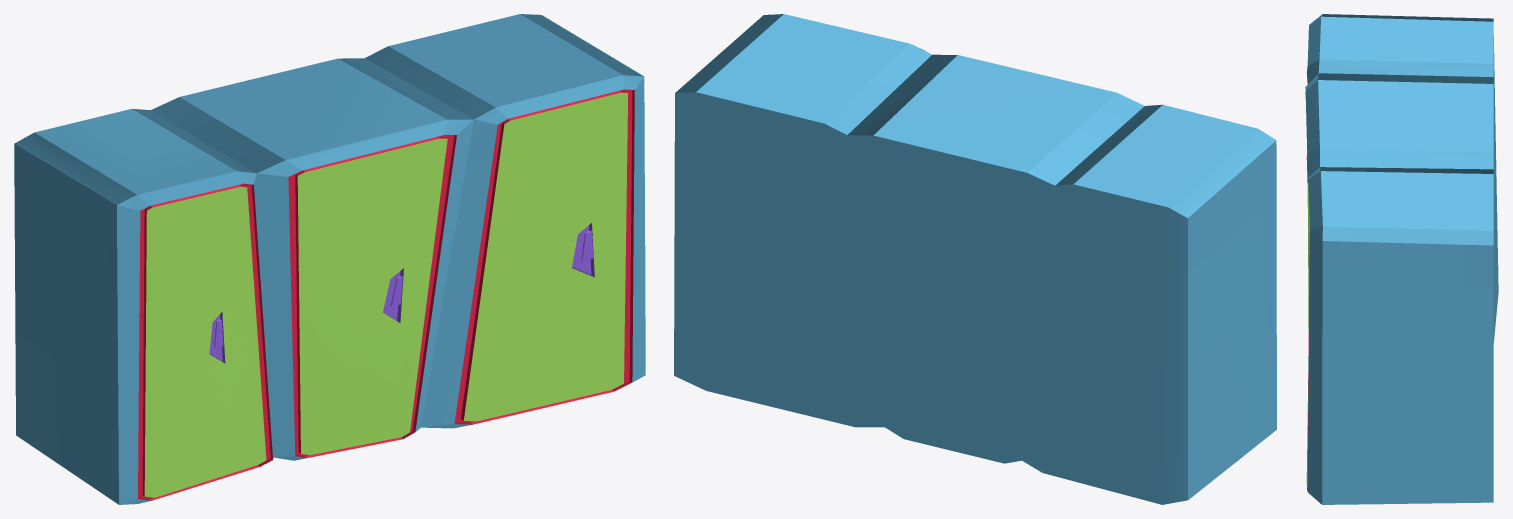
Rendered from Cabinets_T2.fbx.
3 views of the same model, side by side, from view 1: azimuth 30°, elevation 25°; view 2: azimuth 150°, elevation 25°; view 3: azimuth 270°, elevation 25° (orthographic). The views are drawn at different scales.
Parts seen in each view (by area): view 1: T2_Cabinets; view 2: T2_Cabinets; view 3: T2_Cabinets.
Part boxes in pixels (x1,y1,x2,y2): T2_Cabinets: (14,14,645,504); T2_Cabinets: (674,14,1276,504); T2_Cabinets: (1305,14,1498,504).
Bounding box in the file's own units: 226 × 127 × 80.36.
